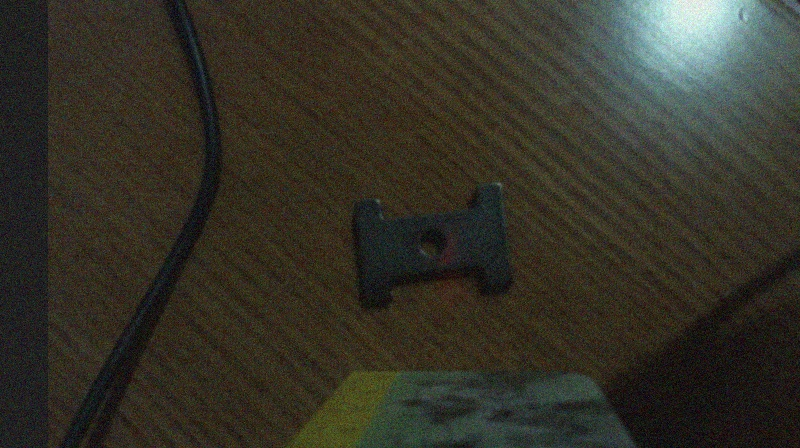O002: (351, 181, 511, 311)
